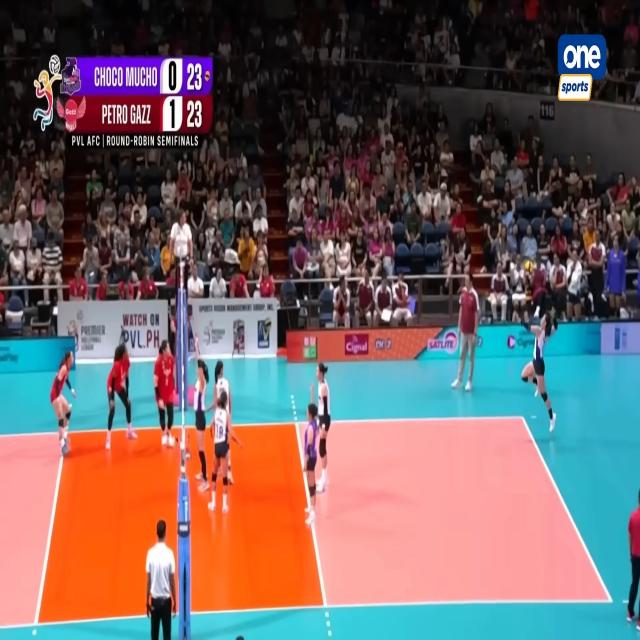Volleyball-Ball: (525, 260, 534, 276)
